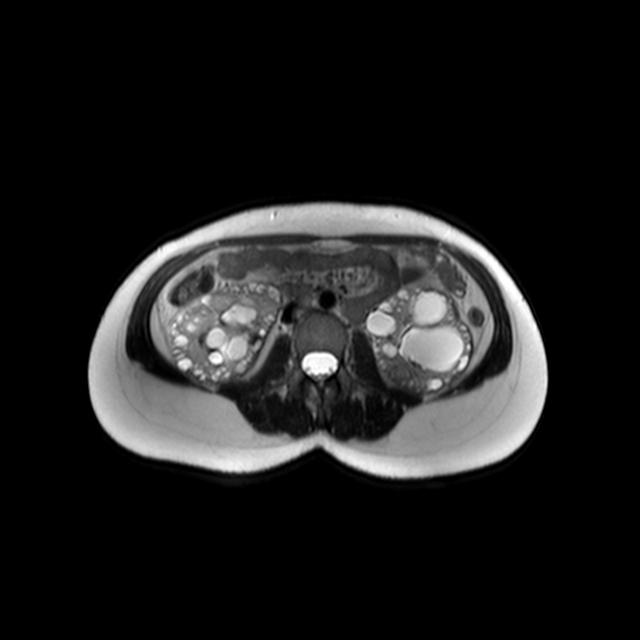sag: (165, 280, 285, 385)
sol: (364, 280, 474, 397)
